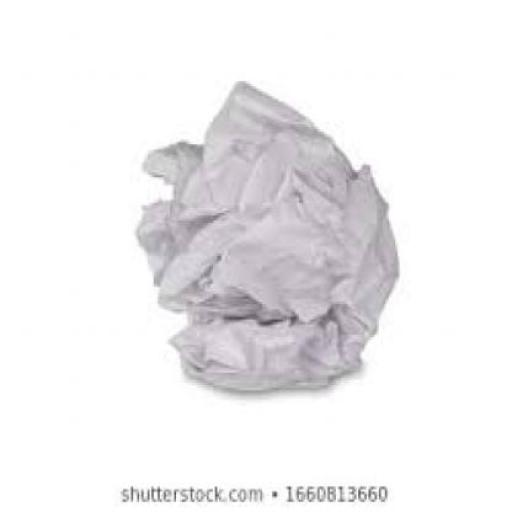paper: (133, 78, 400, 388)
